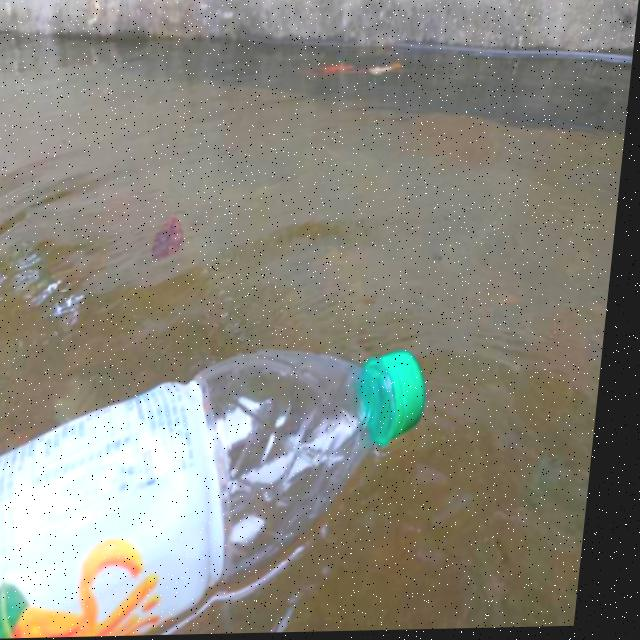leaf: (301, 38, 439, 105), (139, 208, 219, 284), (0, 185, 21, 233)
waterbottle: (0, 331, 454, 640)
